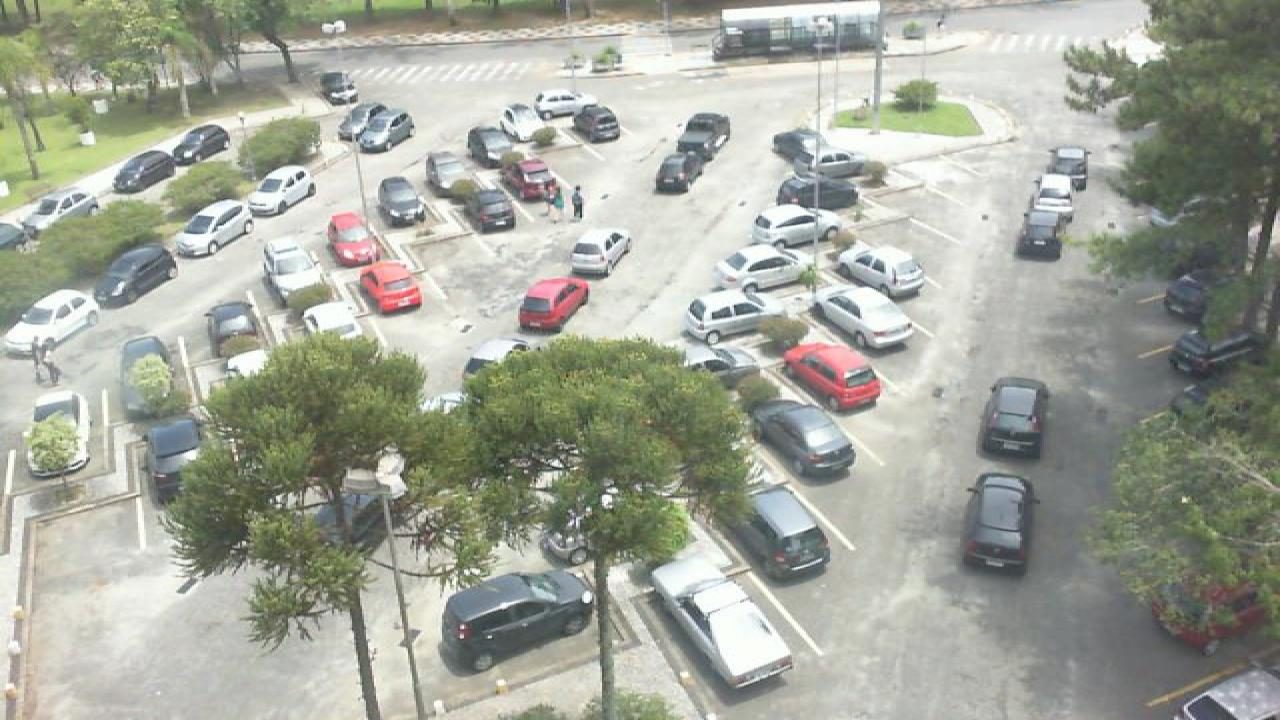Car: (644, 554, 798, 702), (440, 570, 594, 674), (726, 483, 836, 584), (744, 398, 858, 478), (958, 471, 1038, 574), (780, 341, 886, 415), (810, 283, 916, 351), (1172, 659, 1280, 720), (2, 289, 98, 357), (680, 288, 786, 348), (20, 390, 92, 478), (978, 377, 1052, 458), (140, 418, 204, 509), (1164, 326, 1260, 384), (834, 242, 928, 301), (90, 244, 176, 308), (114, 333, 176, 417), (174, 198, 258, 258), (748, 204, 846, 253), (712, 243, 806, 294), (260, 238, 330, 305), (516, 275, 592, 333), (772, 126, 860, 173), (12, 186, 96, 234), (244, 164, 318, 216), (204, 300, 264, 362), (674, 343, 762, 385), (358, 260, 426, 314), (296, 297, 364, 350), (566, 226, 632, 277), (108, 152, 184, 196), (774, 176, 862, 214), (1162, 271, 1226, 322), (326, 210, 382, 266), (462, 179, 518, 234), (502, 156, 564, 205), (1016, 207, 1070, 260), (462, 338, 530, 380), (422, 148, 474, 202), (374, 174, 424, 228), (462, 124, 520, 170), (494, 101, 556, 144), (652, 148, 706, 194), (362, 108, 416, 153), (1028, 173, 1082, 217), (678, 112, 732, 156), (568, 102, 622, 144), (334, 101, 384, 145), (184, 128, 234, 170), (532, 89, 600, 119), (1044, 144, 1092, 182), (312, 70, 360, 107)
